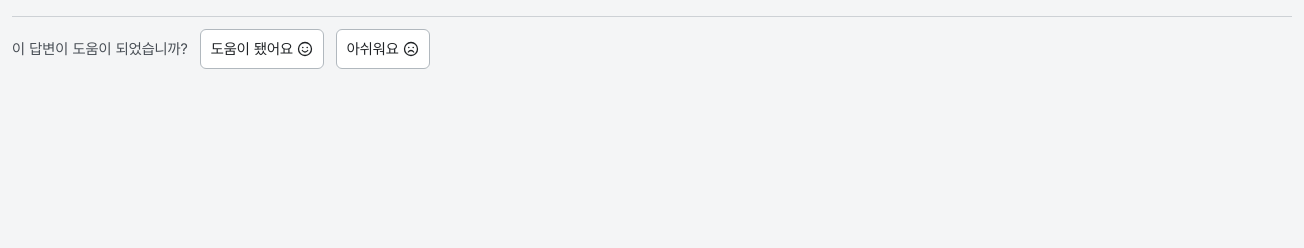
Test: ① 답변 평가(개발서버 AnswerFeedback) › 「아쉬워요」는 까닭 칸(500자·예시 문구·[취소]) 먼저, 보내지 못하면 제자리 알림
The image size is (1304, 248).
Click the button "아쉬워요" at {"x": 383, "y": 49}, box x1=336 y1=29 x2=430 y2=69
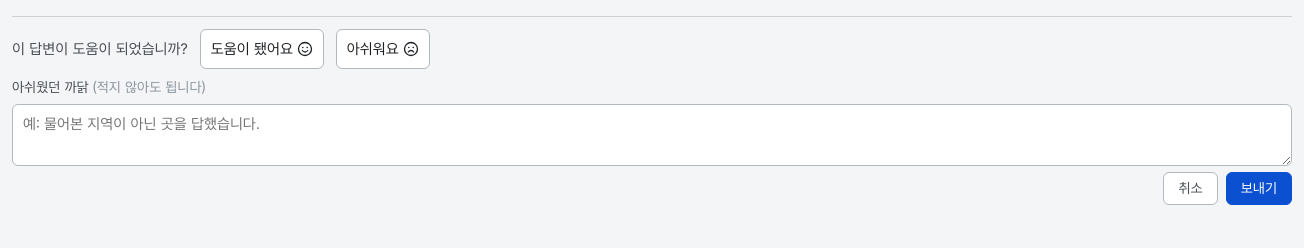
Expected: the text "(적지 않아도 됩니다)" is shown, x1=93 y1=79 x2=206 y2=95
Expected: the button "취소" is shown, x1=1164 y1=172 x2=1218 y2=205
Type " 지역이 다름 " into the text box labelled "아쉬웠던 까닭 (적지 않아도 됩니다)" at {"x": 652, "y": 135}, box x1=12 y1=104 x2=1292 y2=166
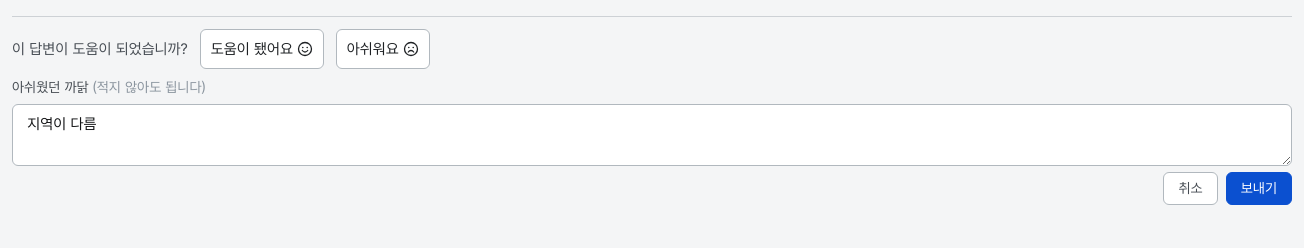
Click the button "보내기" at {"x": 1259, "y": 189}, box x1=1226 y1=172 x2=1292 y2=205
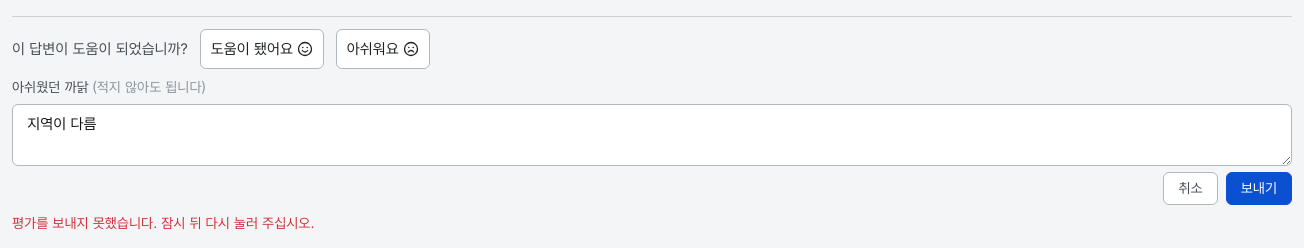
Expected: the message reads "평가를 보내지 못했습니다. 잠시 뒤 다시 눌러 주십시오.", x1=12 y1=215 x2=314 y2=231
